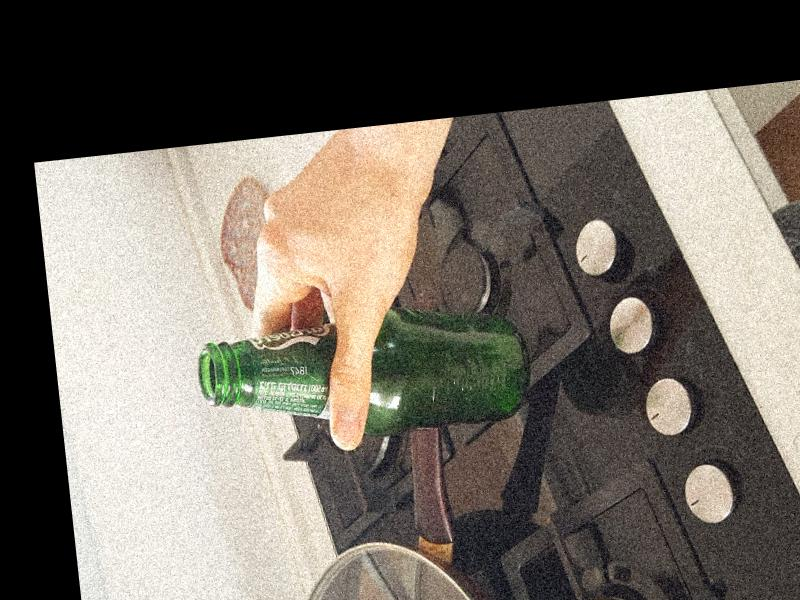Beer: (198, 307, 534, 451)
